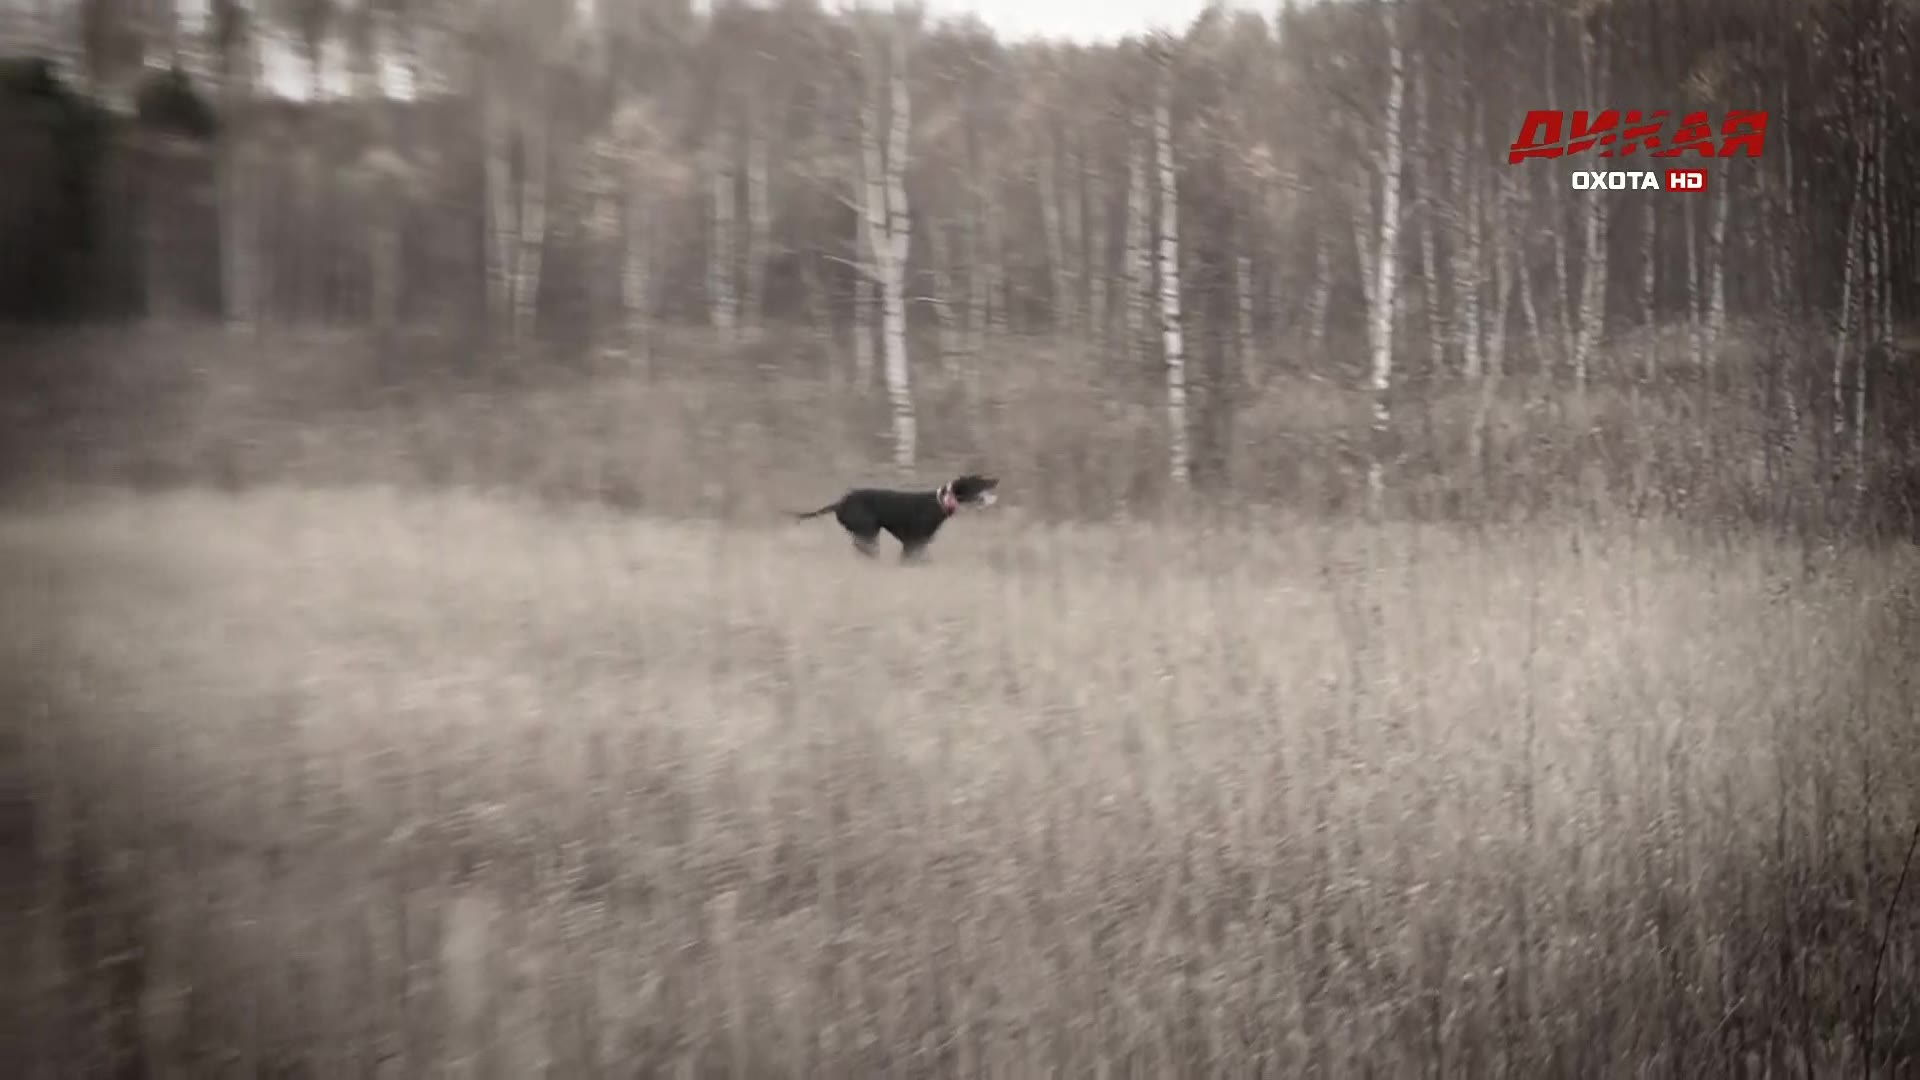Dikaya_Ohota_HD: (1502, 103, 1779, 200)
